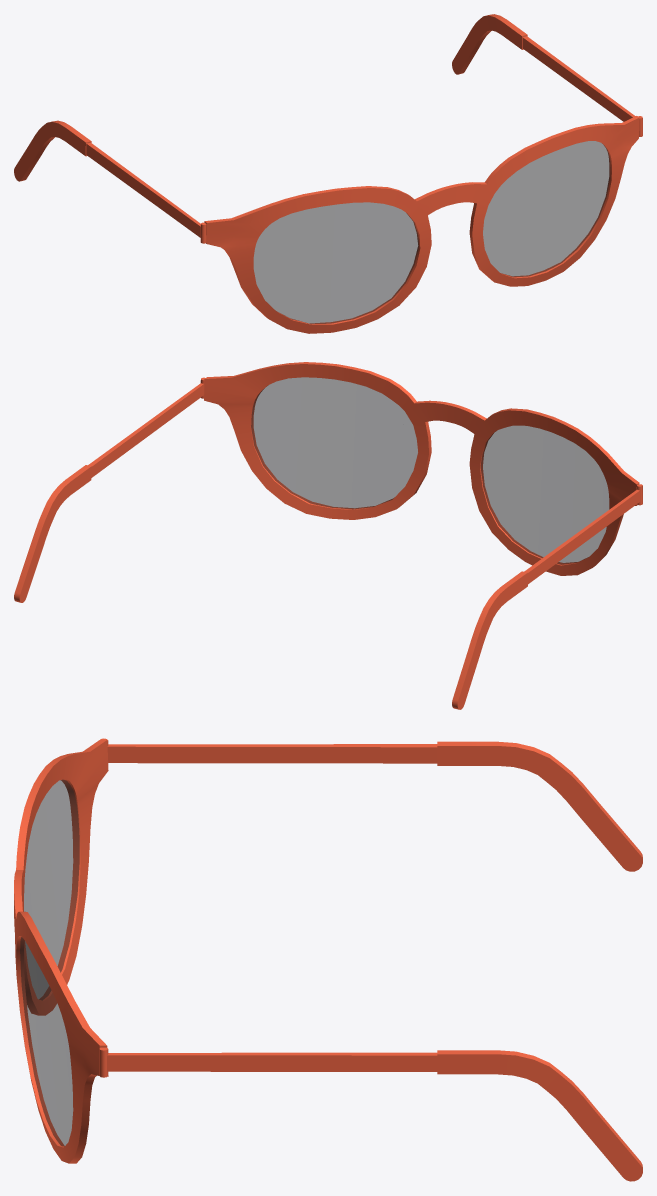
The picture shows the model from 3 angles, top to bottom: view 1: azimuth 30°, elevation 25°; view 2: azimuth 150°, elevation 25°; view 3: azimuth 270°, elevation 25°; orthographic projection. The views are drawn at different scales.
Parts seen in each view (by area): view 1: Lens, Material.035; view 2: Lens, Material.035; view 3: Material.035, Lens.
Part boxes in pixels (<box>): Lens: <box>253,141,610,324</box>; Material.035: <box>14,14,642,333</box>; Lens: <box>251,377,609,564</box>; Material.035: <box>14,362,642,709</box>; Material.035: <box>14,738,642,1181</box>; Lens: <box>20,779,79,1146</box>.
Bounding box in the file's own units: 2.02 × 0.6409 × 1.71.
